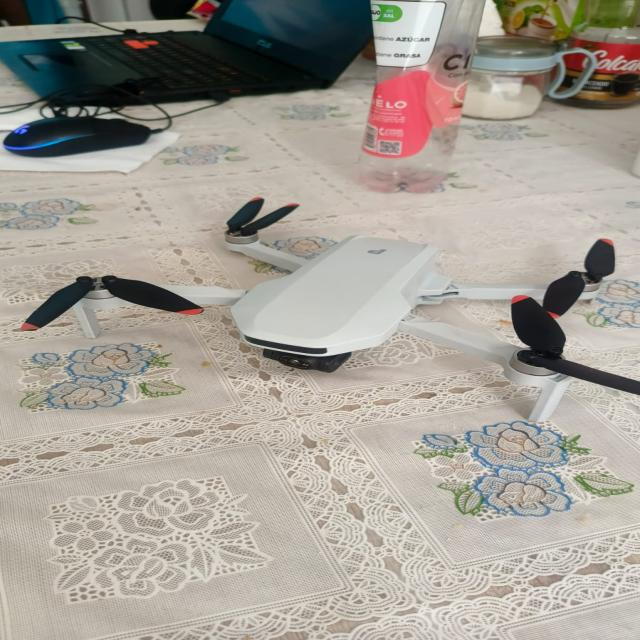dron: (23, 175, 640, 435)
